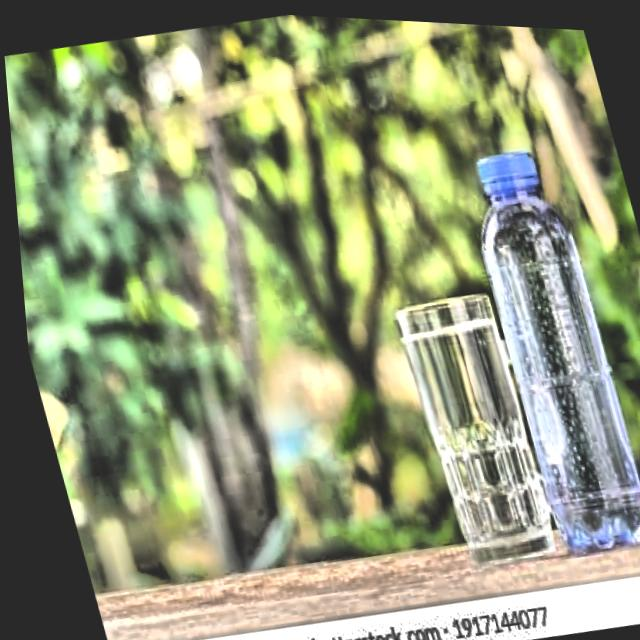Bottles: (440, 111, 640, 578)
